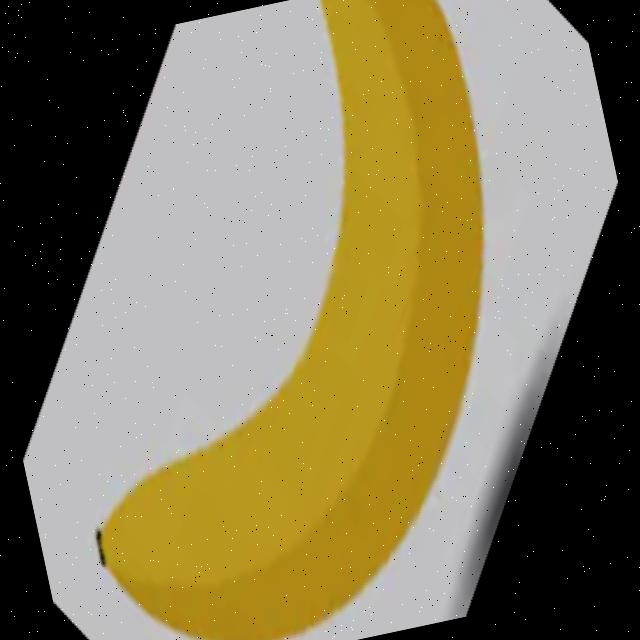banana: (0, 0, 573, 640)
